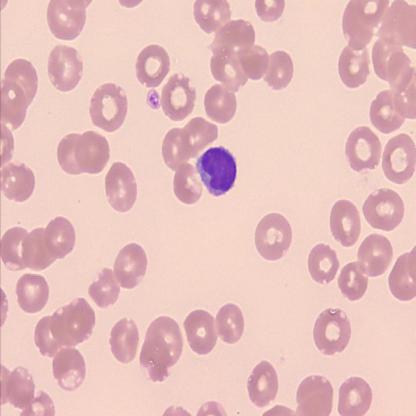Lymphocyte: (196, 143, 238, 198)
